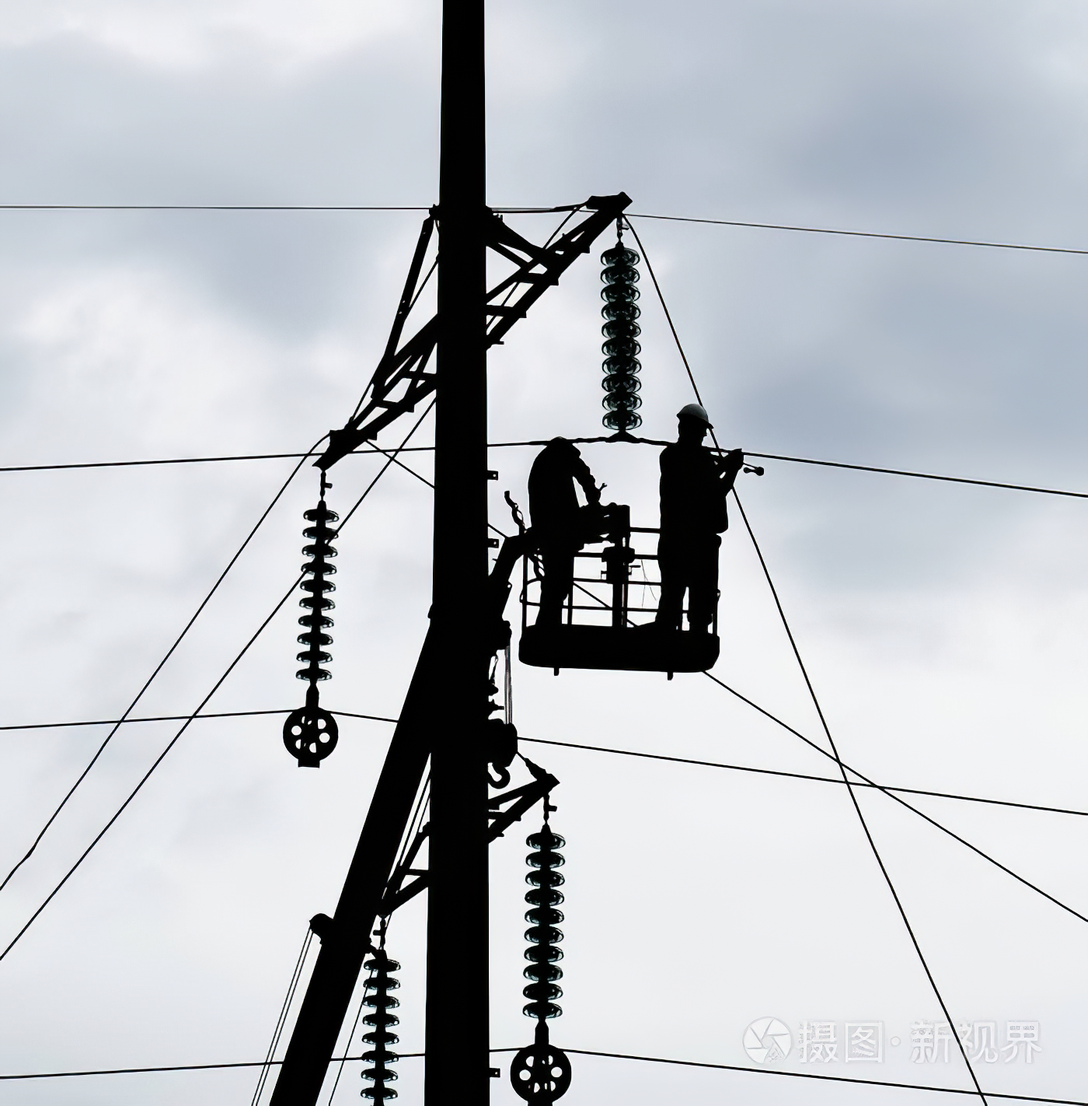insulator: (520, 828, 569, 1017), (596, 247, 644, 432), (299, 504, 337, 684), (362, 957, 406, 1105)
